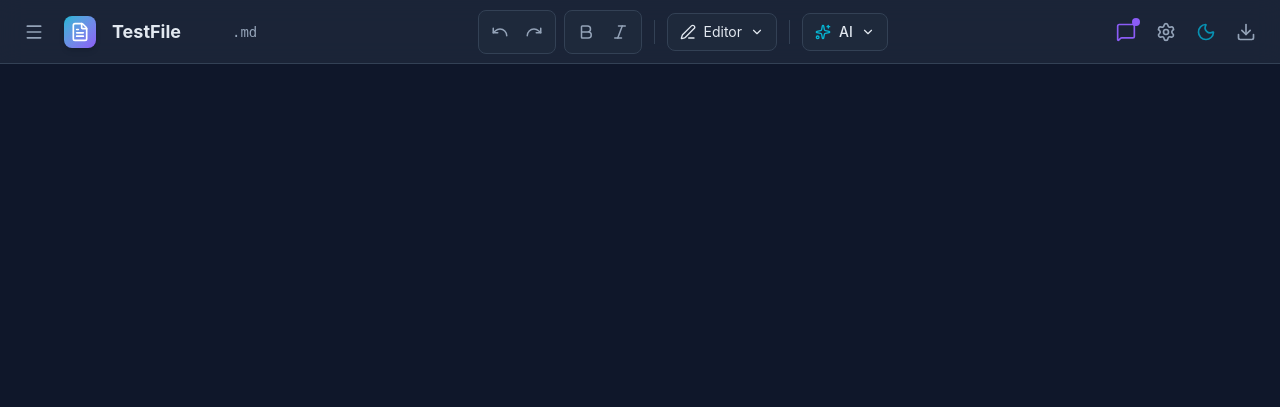
Test: Toolbar › AI Actions dropdown › should open AI menu when clicked
What coordinates should you click on to do the following:
click the button "AI"
I would click on:
 (845, 32)
Its box is left=802, top=12, right=888, bottom=50.
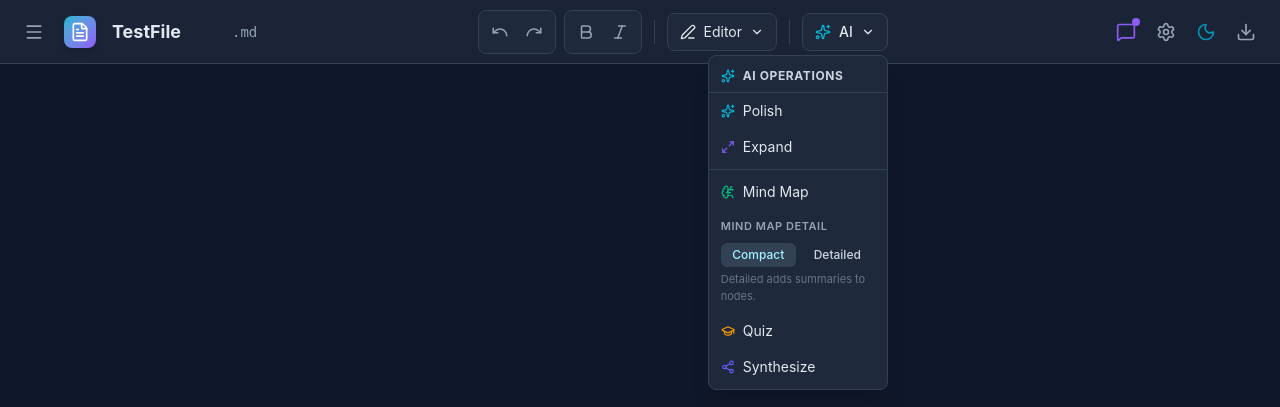
Now the button "Polish" is shown, box left=709, top=92, right=887, bottom=128
